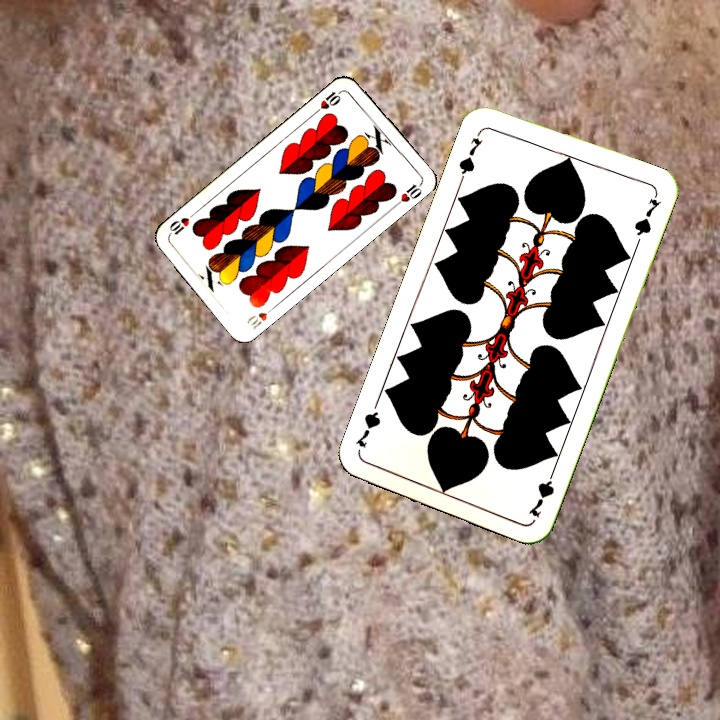G7: (524, 463, 559, 521), (454, 126, 486, 183)
H10: (243, 301, 279, 332), (311, 86, 345, 116)
